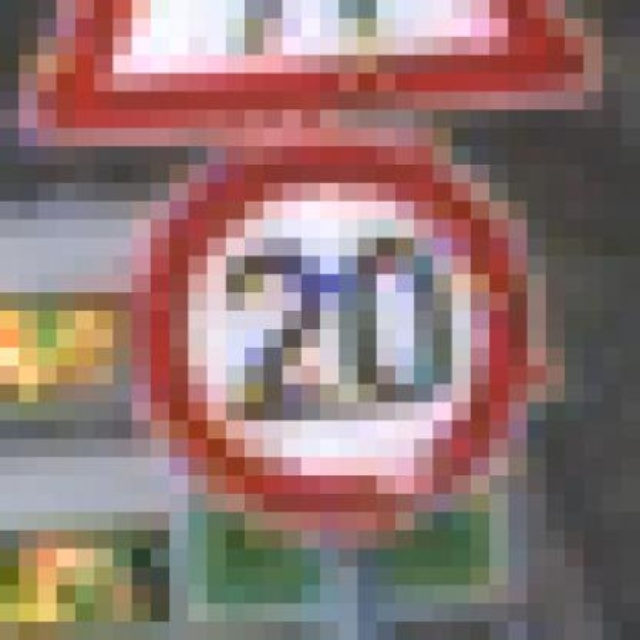Tốc độ tối đa cho phép 20km/h: (130, 135, 541, 532)
